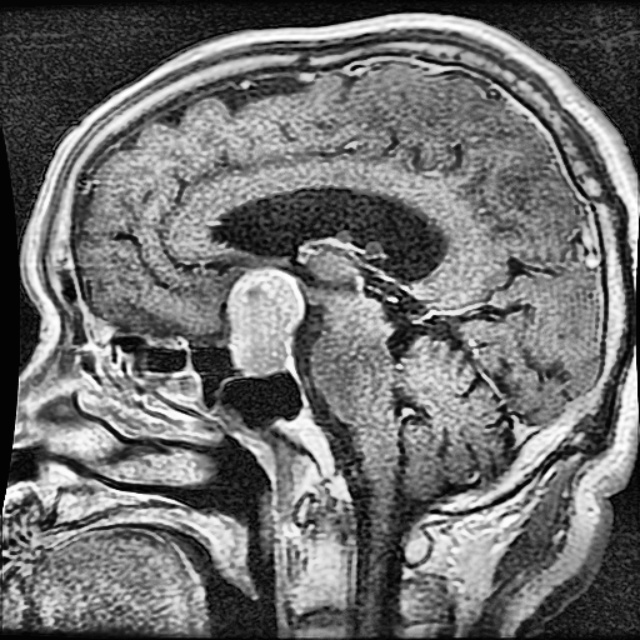Pituitary: (227, 268, 304, 377)
